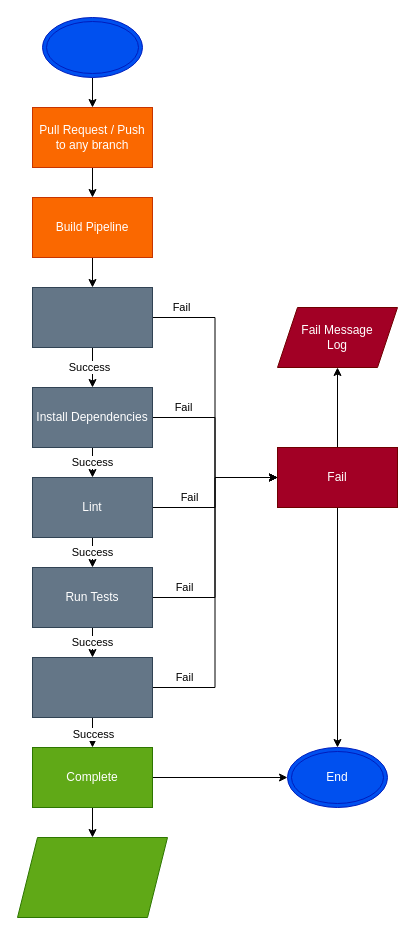
This 415x935 diagram has some shape labels left out. The centre of each missing label's shape, as x and y in pixels:
"Clone" belongs at point 92,317.
"Complete Message Log" belongs at point 92,877.
"Genereate Docs" belongs at point 92,687.
"Start" belongs at point 92,47.
